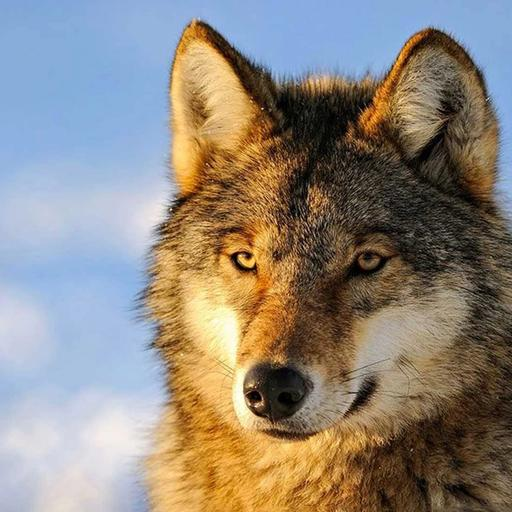Wolf: (133, 16, 512, 512)
